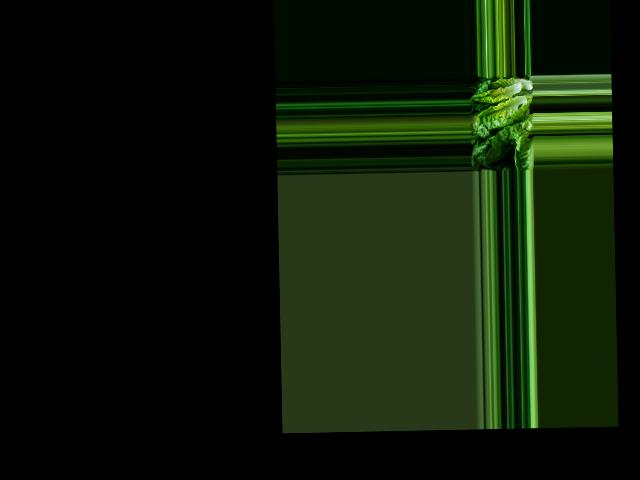lettuce: (473, 77, 534, 139)
